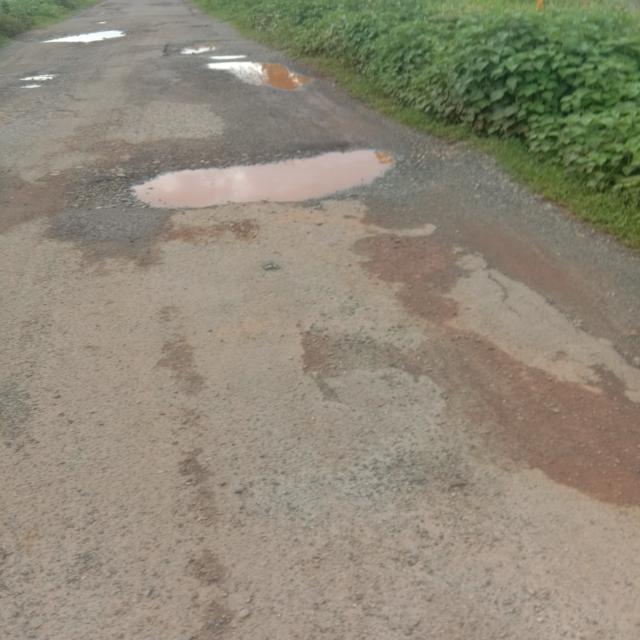potholes: (125, 144, 409, 204), (164, 41, 324, 92), (34, 26, 130, 51), (17, 70, 61, 94)
